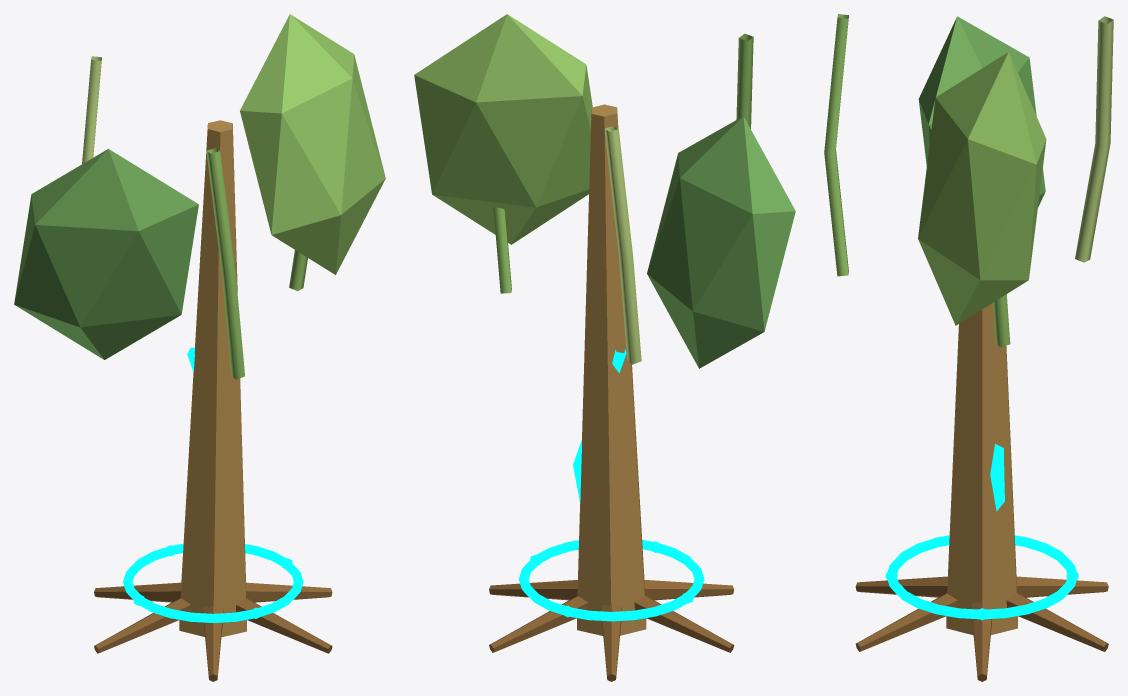
Rendered from seedling.glb.
3 renders of one model, left to right at view 1: azimuth 30°, elevation 25°; view 2: azimuth 150°, elevation 25°; view 3: azimuth 270°, elevation 25°, orthographic. The views are drawn at different scales.
Parts seen in each view (by area): view 1: Willow_Leaf_01, Willow_Leaf_02, Willow_Stem, Willow_Frond_03, Chrono_Energy_Ring, Root_04, Root_06, Willow_Frond_02, Root_03, Root_01, Root_05; view 2: Willow_Leaf_02, Willow_Leaf_01, Willow_Stem, Willow_Frond_02, Chrono_Energy_Ring, Root_04, Root_02, Willow_Frond_03, Root_05, Root_01, Willow_Frond_01, Root_03; view 3: Willow_Leaf_02, Willow_Stem, Willow_Leaf_01, Willow_Frond_02, Chrono_Energy_Ring, Willow_Frond_03, Root_02, Root_06, Root_05, Root_03, Root_01, Root_Energy (+1 smaller).
Part boxes in pixels (x1,y1,x2,y2): Willow_Leaf_01: [14, 149, 198, 359]; Willow_Leaf_02: [240, 14, 385, 274]; Willow_Stem: [179, 120, 246, 637]; Willow_Frond_03: [206, 148, 244, 379]; Chrono_Energy_Ring: [123, 543, 303, 622]; Root_04: [94, 597, 190, 653]; Root_06: [236, 598, 332, 653]; Willow_Frond_02: [82, 56, 101, 163]; Root_03: [94, 582, 181, 602]; Root_01: [246, 582, 332, 602]; Root_05: [203, 606, 223, 681]; Willow_Leaf_02: [414, 14, 592, 244]; Willow_Leaf_01: [647, 116, 795, 368]; Willow_Stem: [577, 104, 646, 635]; Willow_Frond_02: [604, 126, 641, 364]; Chrono_Energy_Ring: [518, 539, 704, 621]; Root_04: [634, 595, 734, 652]; Root_02: [489, 595, 588, 652]; Willow_Frond_03: [736, 33, 753, 128]; Root_05: [644, 580, 734, 600]; Root_01: [489, 580, 577, 600]; Willow_Frond_01: [493, 206, 511, 293]; Root_03: [601, 604, 621, 681]; Willow_Leaf_02: [918, 52, 1046, 325]; Willow_Stem: [946, 303, 1017, 635]; Willow_Leaf_01: [918, 16, 1045, 207]; Willow_Frond_02: [1075, 16, 1113, 262]; Chrono_Energy_Ring: [887, 535, 1077, 619]; Willow_Frond_03: [824, 14, 848, 276]; Root_02: [1006, 592, 1108, 651]; Root_06: [855, 592, 957, 651]; Root_05: [855, 576, 947, 597]; Root_03: [1016, 576, 1108, 597]; Root_01: [971, 602, 992, 681]; Root_Energy: [990, 444, 1004, 511].
Bounding box in the file's own units: 0.9851 × 1.56 × 0.664.
